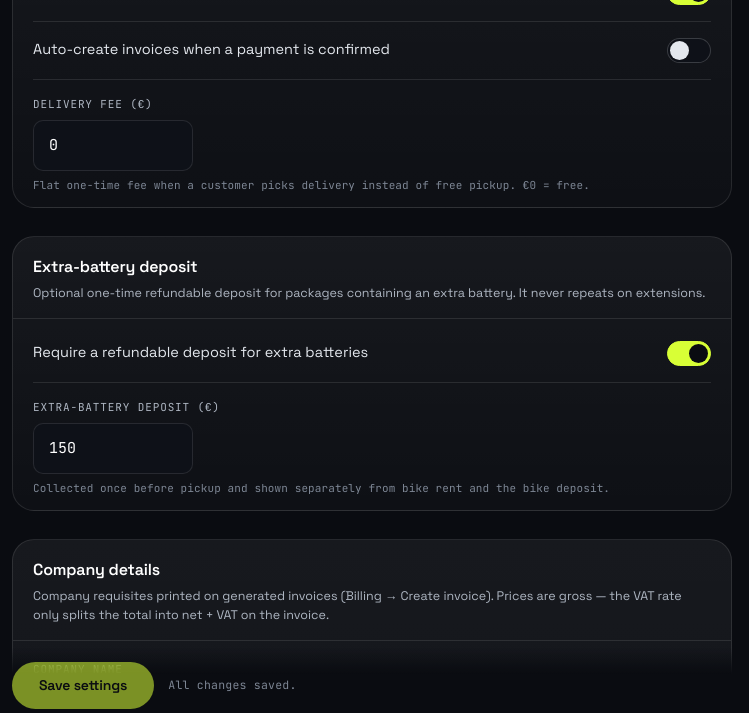
Scenario: admin extra-battery deposit settings › resets a configured amount when disabled and requires a new amount if re-enabled
(page scrolled)
Expected: the number field named "Extra-battery deposit (€)" holds "150", top-left (33, 423), bottom-right (193, 474)
Click the switch named "Require a refundable deposit for extra batteries" at {"x": 689, "y": 353}, box top-left (667, 340), bottom-right (711, 366)
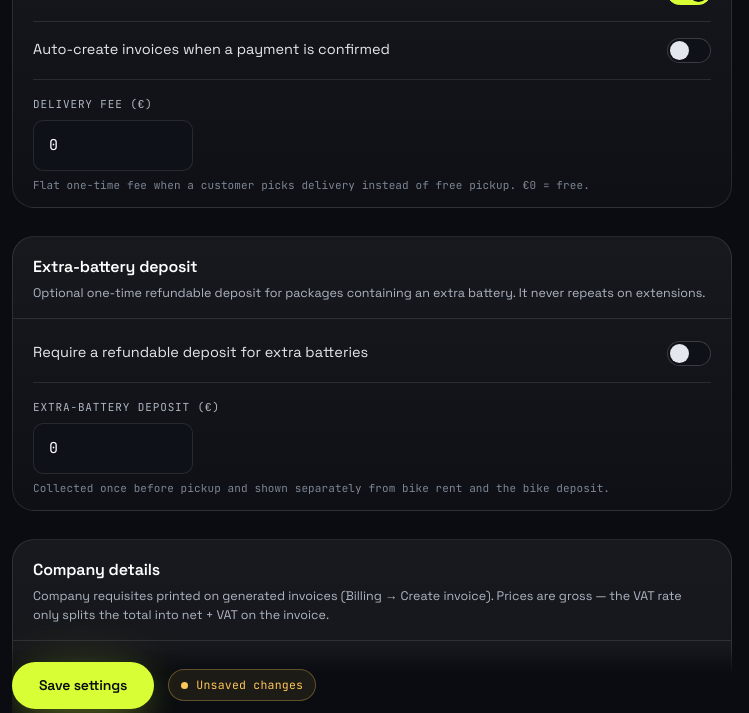
Result: the number field named "Extra-battery deposit (€)" is disabled at top-left (33, 423), bottom-right (193, 474)
Result: the number field named "Extra-battery deposit (€)" holds "0" at top-left (33, 423), bottom-right (193, 474)
Click the button "Save settings" at {"x": 83, "y": 686}, box top-left (12, 662), bottom-right (154, 709)
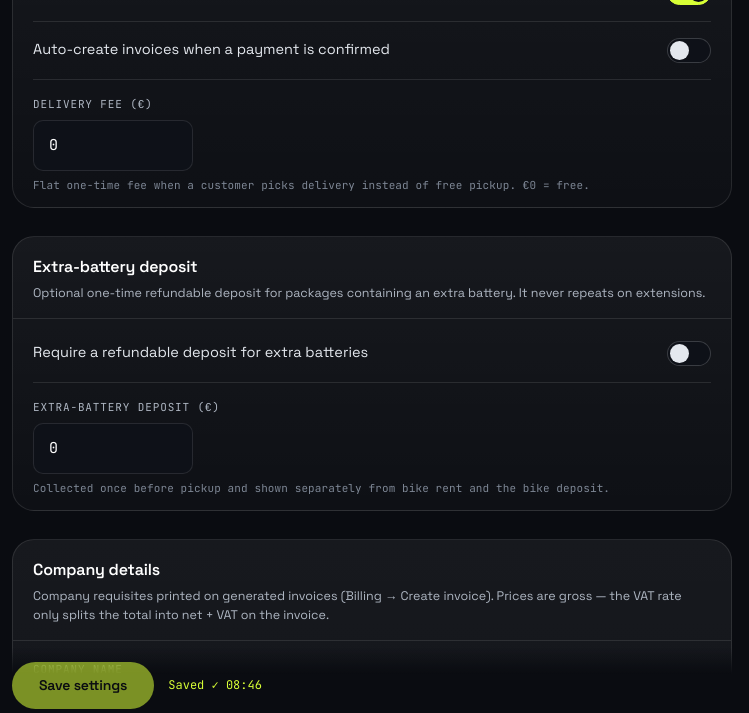
Click the switch named "Require a refundable deposit for extra batteries" at {"x": 689, "y": 353}, box top-left (667, 340), bottom-right (711, 366)
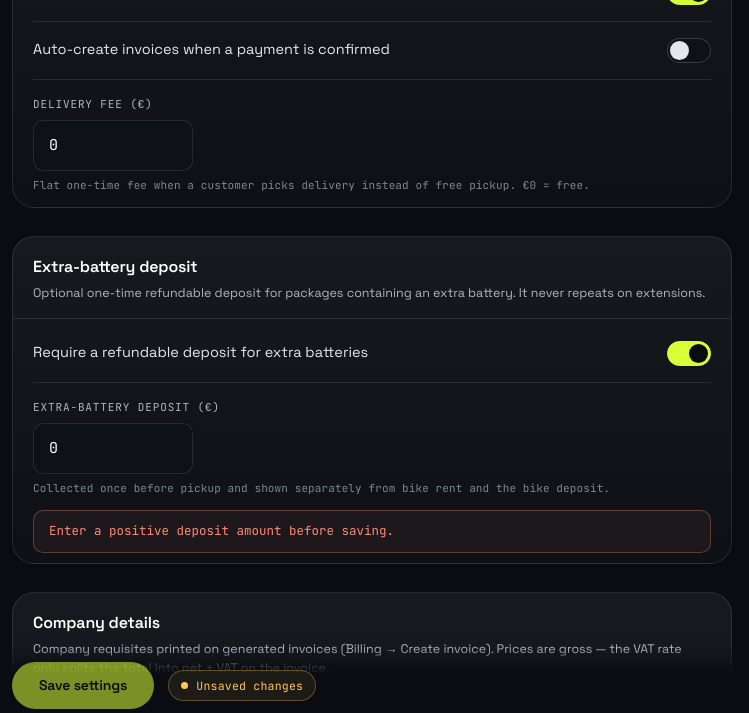
Expected: the number field named "Extra-battery deposit (€)" is enabled, top-left (33, 423), bottom-right (193, 474)
Result: the number field named "Extra-battery deposit (€)" holds "0" at top-left (33, 423), bottom-right (193, 474)
Result: the text "Enter a positive deposit amount before saving." is shown at top-left (33, 510), bottom-right (711, 553)
